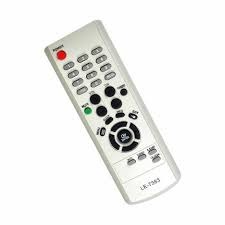remote control: (39, 24, 185, 217)
